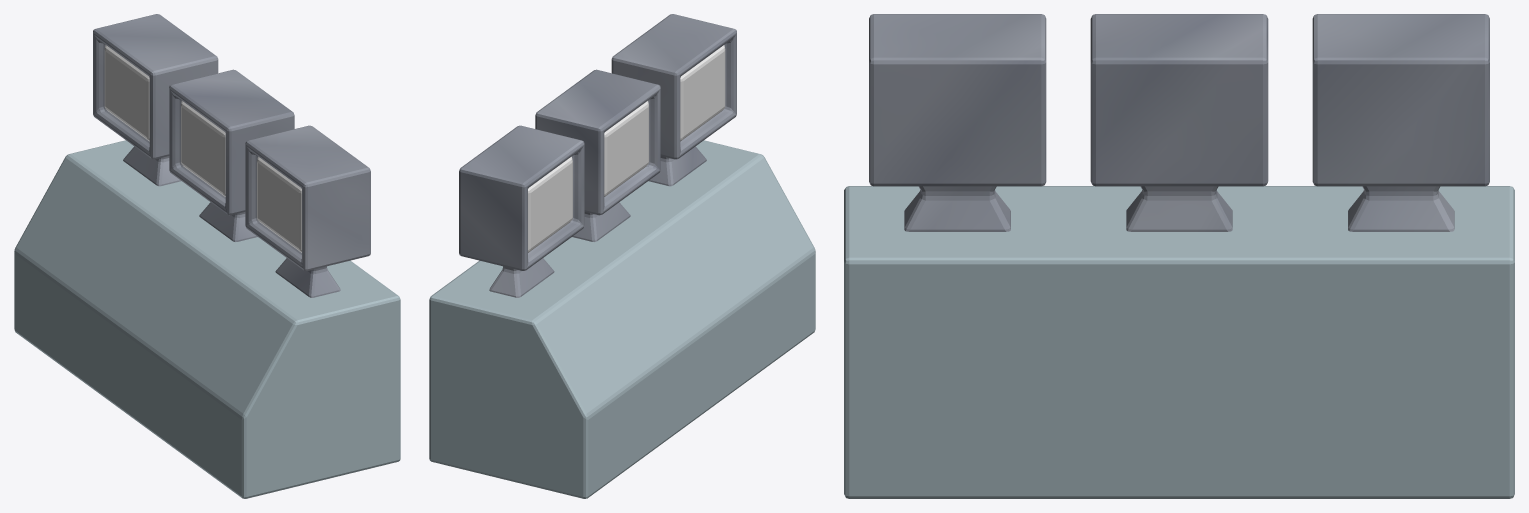
Rendered from Screens.fbx.
3 renders of one model, left to right at view 1: azimuth 30°, elevation 25°; view 2: azimuth 150°, elevation 25°; view 3: azimuth 270°, elevation 25°, orthographic. The views are drawn at different scales.
Parts seen in each view (by area): view 1: Screens; view 2: Screens; view 3: Screens.
Boxes of the visible parts, bbox=[...] form: Screens: bbox=[14, 14, 400, 498]; Screens: bbox=[429, 14, 815, 498]; Screens: bbox=[844, 14, 1514, 498].
Size of the model in its own units: 3 by 5.3 by 7.56.
